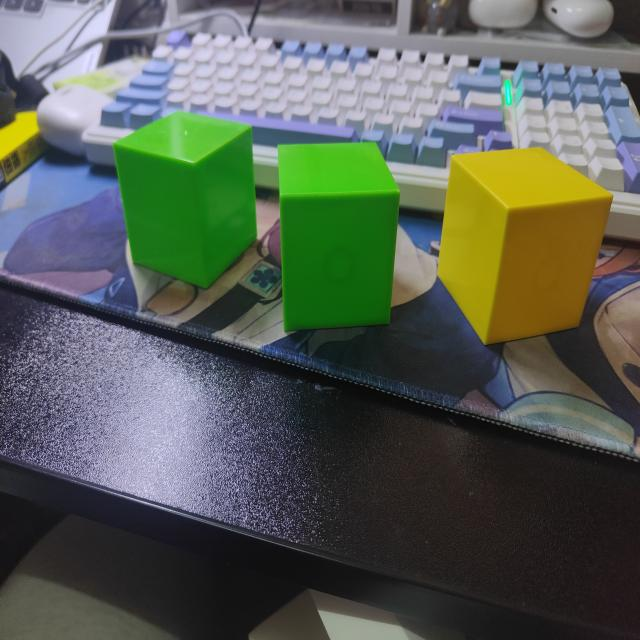green: (112, 112, 258, 296), (277, 142, 401, 335)
yellow: (436, 147, 614, 349)
